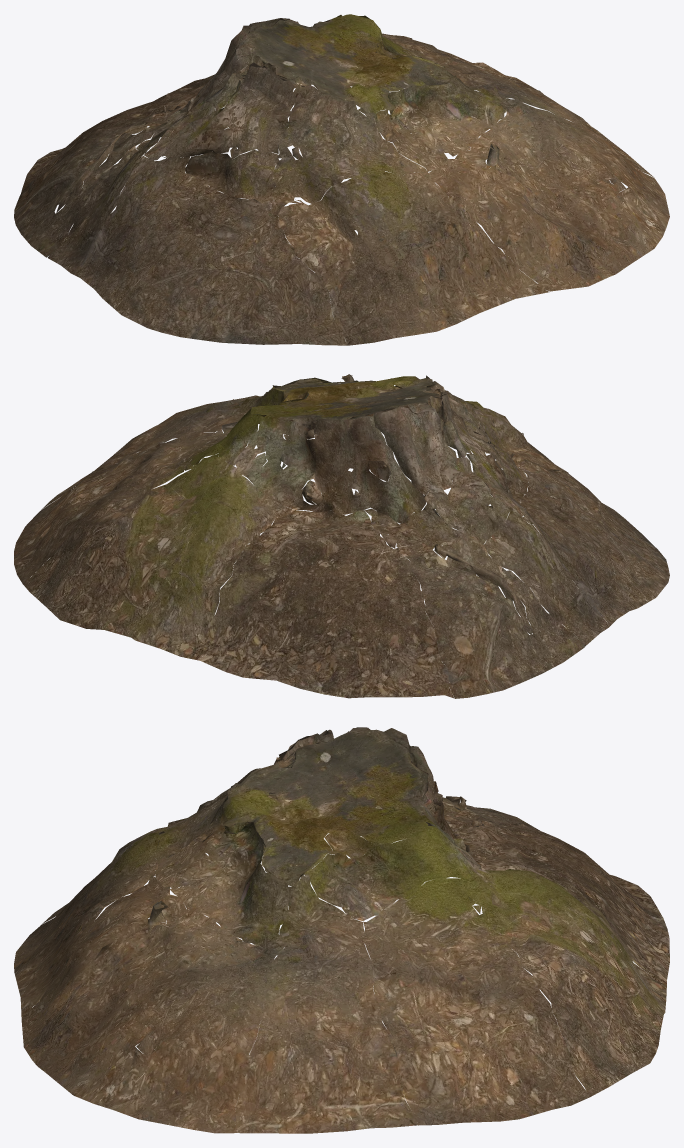
Rendered from tree_stump_02.glb.
3 views of the same model, one above another, from view 1: azimuth 30°, elevation 25°; view 2: azimuth 150°, elevation 25°; view 3: azimuth 270°, elevation 25° (orthographic). The views are drawn at different scales.
Parts seen in each view (by area): view 1: tree_stump_02; view 2: tree_stump_02; view 3: tree_stump_02.
Part boxes in pixels (x1,y1,x2,y2): tree_stump_02: [14, 14, 669, 345]; tree_stump_02: [14, 374, 669, 698]; tree_stump_02: [14, 727, 669, 1133].
Bounding box in the file's own units: 1.52 × 0.5227 × 1.39.
Materials: 1 (1 with a texture image).
